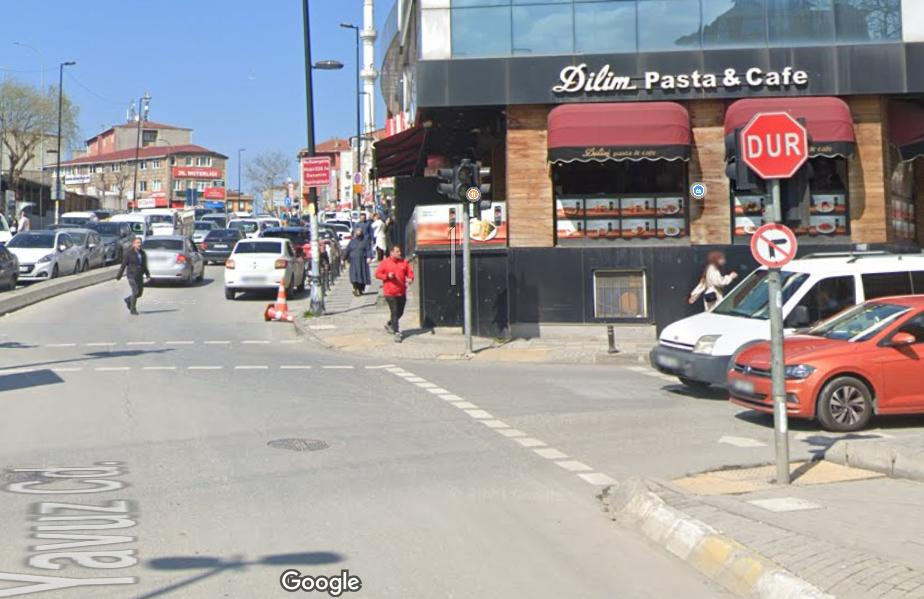rightturnsareforbidden: (755, 226, 795, 262)
stop: (746, 115, 806, 176)
